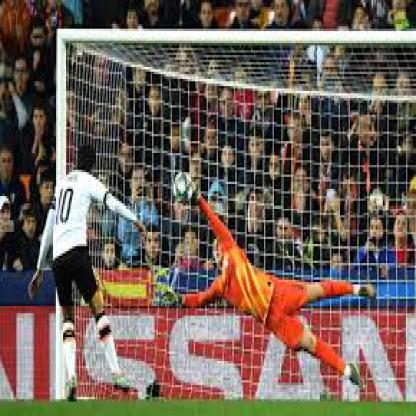goal: (135, 123, 333, 345)
